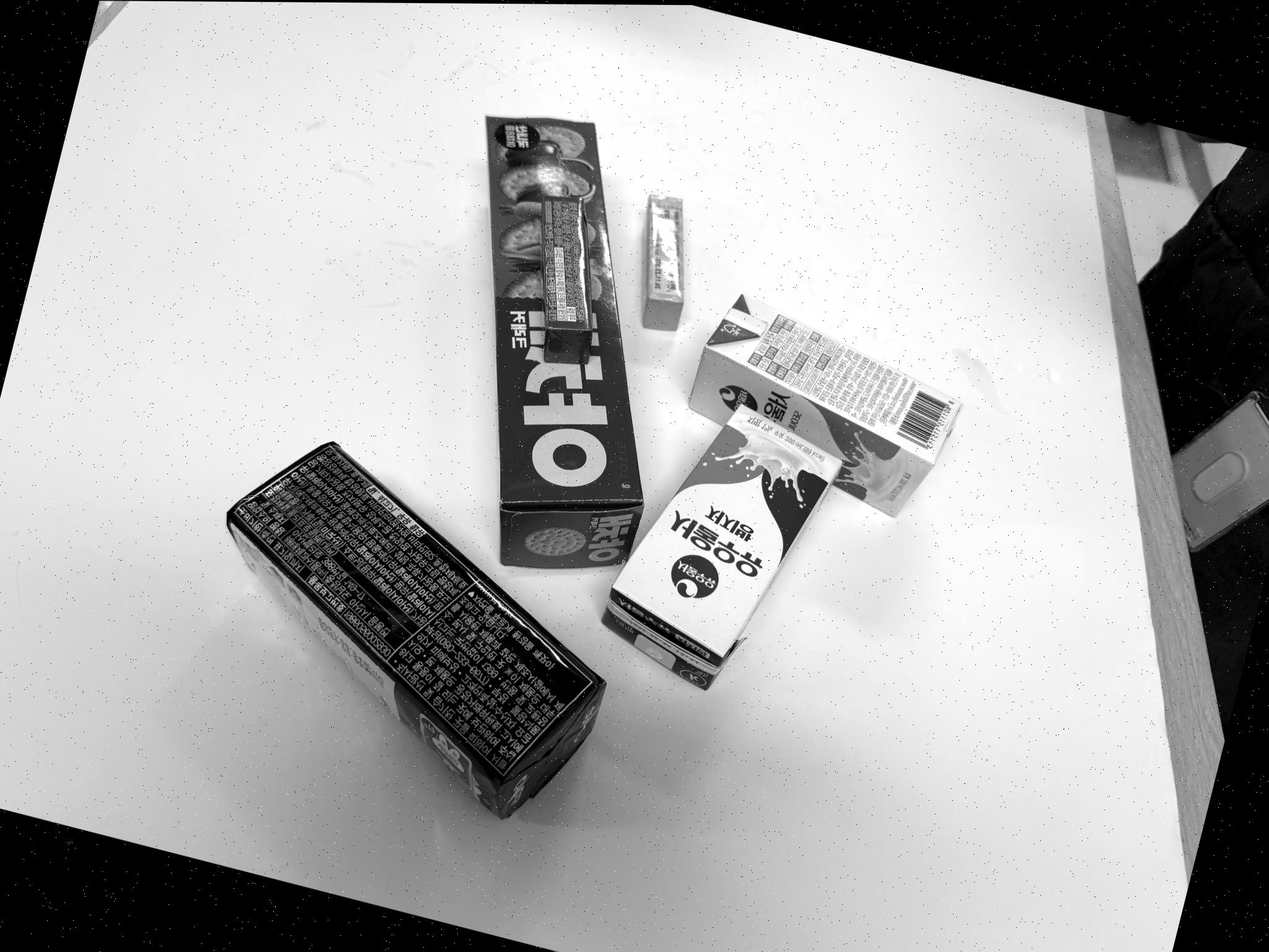cracker_ace: (226, 442, 605, 818)
cracker_vege: (485, 116, 643, 568)
gum_green: (541, 186, 592, 363)
gum_yellow: (643, 194, 684, 331)
milk_blue: (605, 407, 840, 689)
milk_green: (689, 295, 961, 515)
